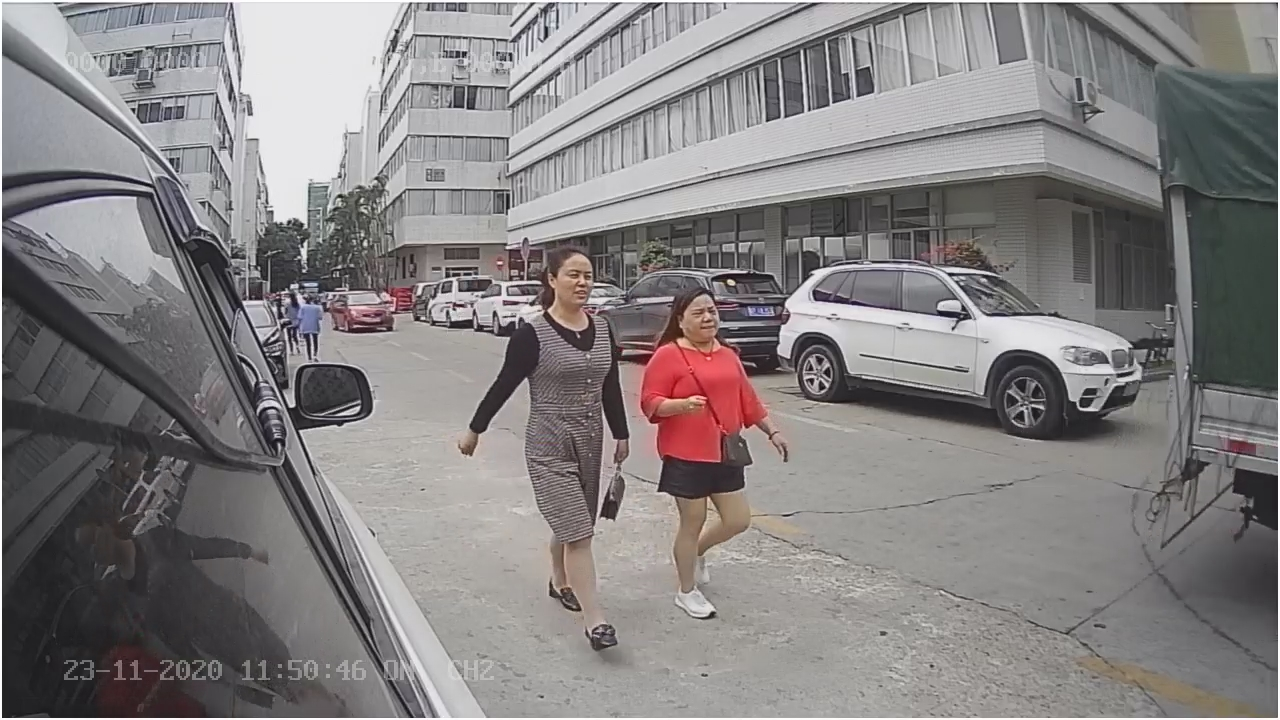person: (454, 235, 631, 654), (639, 279, 792, 621)
